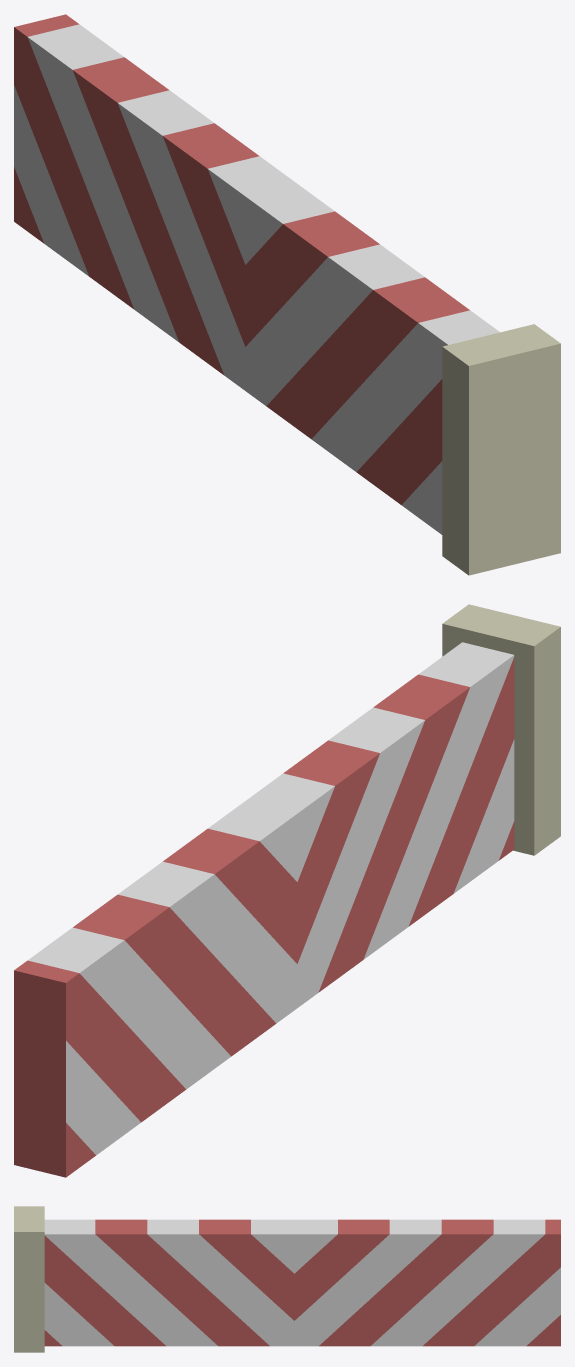
File: gate.glb
The picture shows the model from 3 angles, top to bottom: view 1: azimuth 30°, elevation 25°; view 2: azimuth 150°, elevation 25°; view 3: azimuth 270°, elevation 25°; orthographic projection. The views are drawn at different scales.
Parts seen in each view (by area): view 1: door, post; view 2: door, post; view 3: door, post.
Part boxes in pixels (box(x1,y1,x2,y2)): door: box(14, 14, 499, 534); post: box(442, 324, 560, 575); door: box(14, 642, 514, 1177); post: box(442, 604, 560, 855); door: box(44, 1219, 560, 1346); post: box(14, 1206, 44, 1352).
Bounding box in the file's own units: 1.16 × 2.51 × 10.32.
